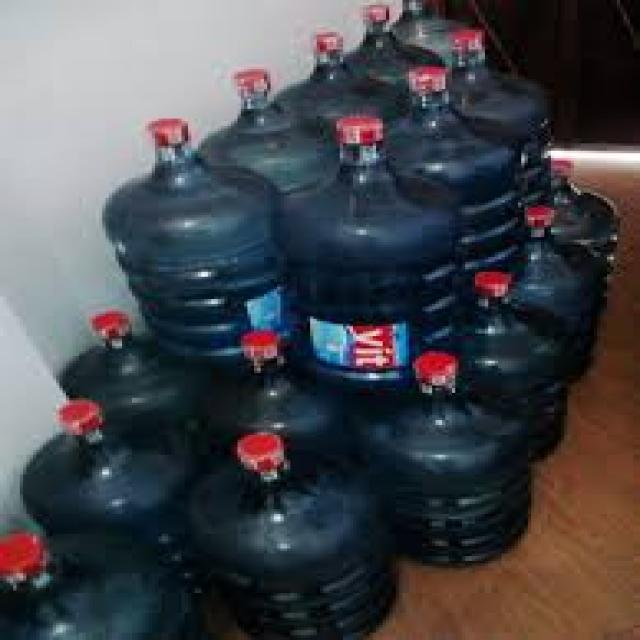Galon: (6, 0, 624, 638)
